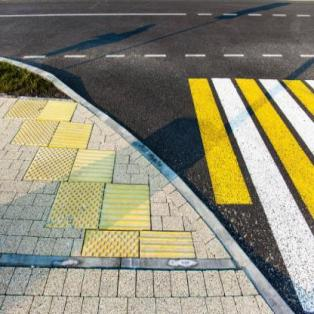Podoctatil: (14, 97, 173, 264)
